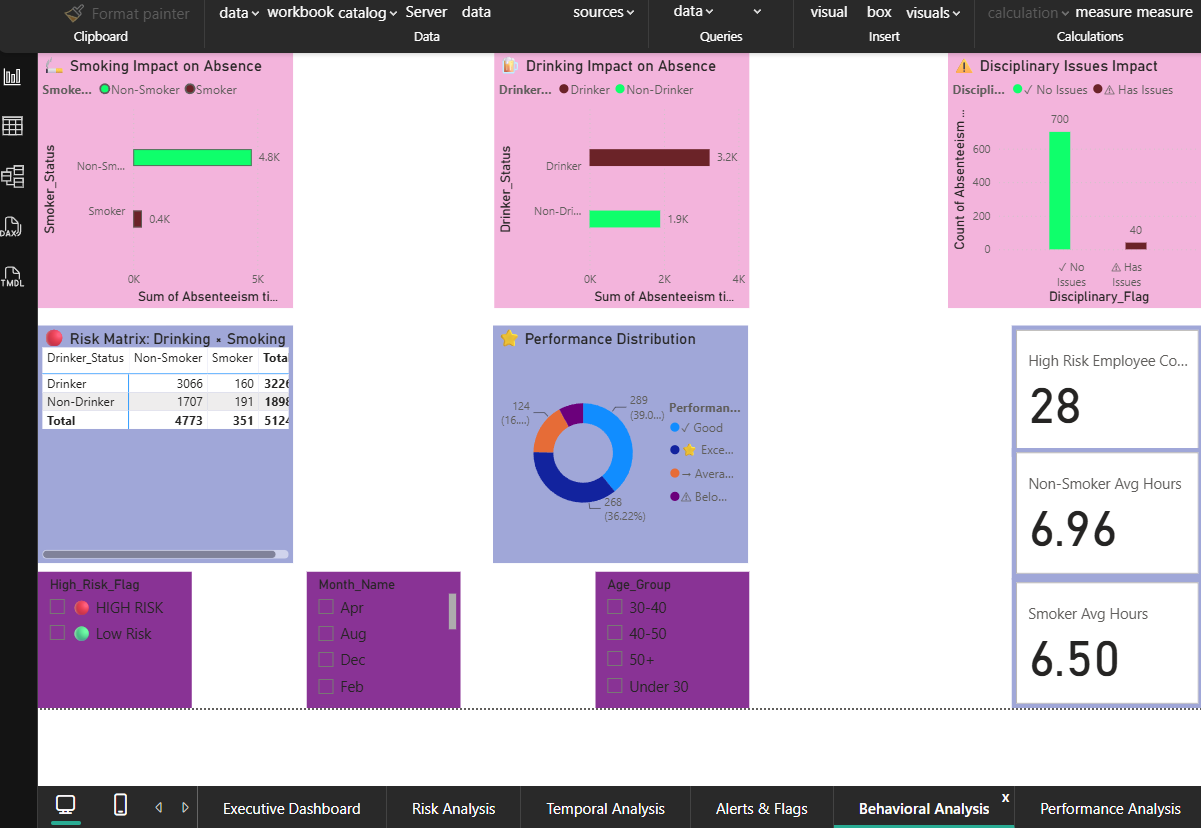

The dashboard page shown, as its layout file describes it:
{"tool":"powerbi","page":{"name":"Behavioral Analysis","canvas":[1280,720],"ordinal":4},"visuals":[{"type":"clusteredBarChart","title":"🚬 Smoking Impact on Absence","fields":{"Y":["Sum(PowerBI_Import_Data.Absenteeism time in hours)"],"Category":["PowerBI_Import_Data.Smoker_Status"],"Series":["PowerBI_Import_Data.Smoker_Status"]},"box":[0,0,280.3,280.3],"z":0},{"type":"clusteredBarChart","title":"🍺 Drinking Impact on Absence","fields":{"Y":["Sum(PowerBI_Import_Data.Absenteeism time in hours)"],"Category":["PowerBI_Import_Data.Drinker_Status"],"Series":["PowerBI_Import_Data.Drinker_Status"]},"box":[501.2,0,280.3,280.3],"z":1000},{"type":"clusteredColumnChart","title":"⚠️ Disciplinary Issues Impact","fields":{"Y":["CountNonNull(PowerBI_Import_Data.Absenteeism time in hours)"],"Category":["PowerBI_Import_Data.Disciplinary_Flag"],"Series":["PowerBI_Import_Data.Disciplinary_Flag"]},"box":[999.5,0,280.3,280.3],"z":2000},{"type":"pivotTable","title":"🔴 Risk Matrix: Drinking × Smoking","fields":{"Rows":["PowerBI_Import_Data.Drinker_Status"],"Columns":["PowerBI_Import_Data.Smoker_Status"],"Values":["Sum(PowerBI_Import_Data.Absenteeism time in hours)"]},"box":[0,299.1,279.9,260.7],"z":3000},{"type":"cardVisual","fields":{"Data":["PowerBI_Import_Data.Smoker Avg Hours"]},"box":[1069.2,576.8,210.6,143.8],"z":4000},{"type":"cardVisual","fields":{"Data":["PowerBI_Import_Data.High Risk Employee Count"]},"box":[1069.2,299.5,210.6,143.8],"z":5000},{"type":"cardVisual","fields":{"Data":["PowerBI_Import_Data.Non-Smoker Avg Hours"]},"box":[1069.2,433,210.6,143.8],"z":6000},{"type":"donutChart","title":"⭐ Performance Distribution","fields":{"Y":["CountNonNull(PowerBI_Import_Data.ID)"],"Category":["PowerBI_Import_Data.Performance_Tier"]},"box":[499.7,299.5,280.3,261],"z":7000},{"type":"slicer","fields":{"Values":["PowerBI_Import_Data.High_Risk_Flag"]},"box":[0,569.4,169,151.3],"z":8000},{"type":"slicer","fields":{"Values":["PowerBI_Import_Data.Month_Name"]},"box":[295.1,569.4,169,151.3],"z":9000},{"type":"slicer","fields":{"Values":["PowerBI_Import_Data.Age_Group"]},"box":[612.4,569.4,169,151.3],"z":10000}]}

Visuals, with their boxes on the page's 1280x720 design canvas (x1, y1, x2, y2). These are canvas units, not pixel positions in the 1201x828 screenshot, which may show the page scaled, cropped or inside an application window:
"🚬 Smoking Impact on Absence" clusteredBarChart: <region>0, 0, 280, 280</region>
"🍺 Drinking Impact on Absence" clusteredBarChart: <region>501, 0, 782, 280</region>
"⚠️ Disciplinary Issues Impact" clusteredColumnChart: <region>1000, 0, 1280, 280</region>
"🔴 Risk Matrix: Drinking × Smoking" pivotTable: <region>0, 299, 280, 560</region>
cardVisual - PowerBI_Import_Data.Smoker Avg Hours: <region>1069, 577, 1280, 721</region>
cardVisual - PowerBI_Import_Data.High Risk Employee Count: <region>1069, 300, 1280, 443</region>
cardVisual - PowerBI_Import_Data.Non-Smoker Avg Hours: <region>1069, 433, 1280, 577</region>
"⭐ Performance Distribution" donutChart: <region>500, 300, 780, 560</region>
slicer - PowerBI_Import_Data.High_Risk_Flag: <region>0, 569, 169, 721</region>
slicer - PowerBI_Import_Data.Month_Name: <region>295, 569, 464, 721</region>
slicer - PowerBI_Import_Data.Age_Group: <region>612, 569, 781, 721</region>
